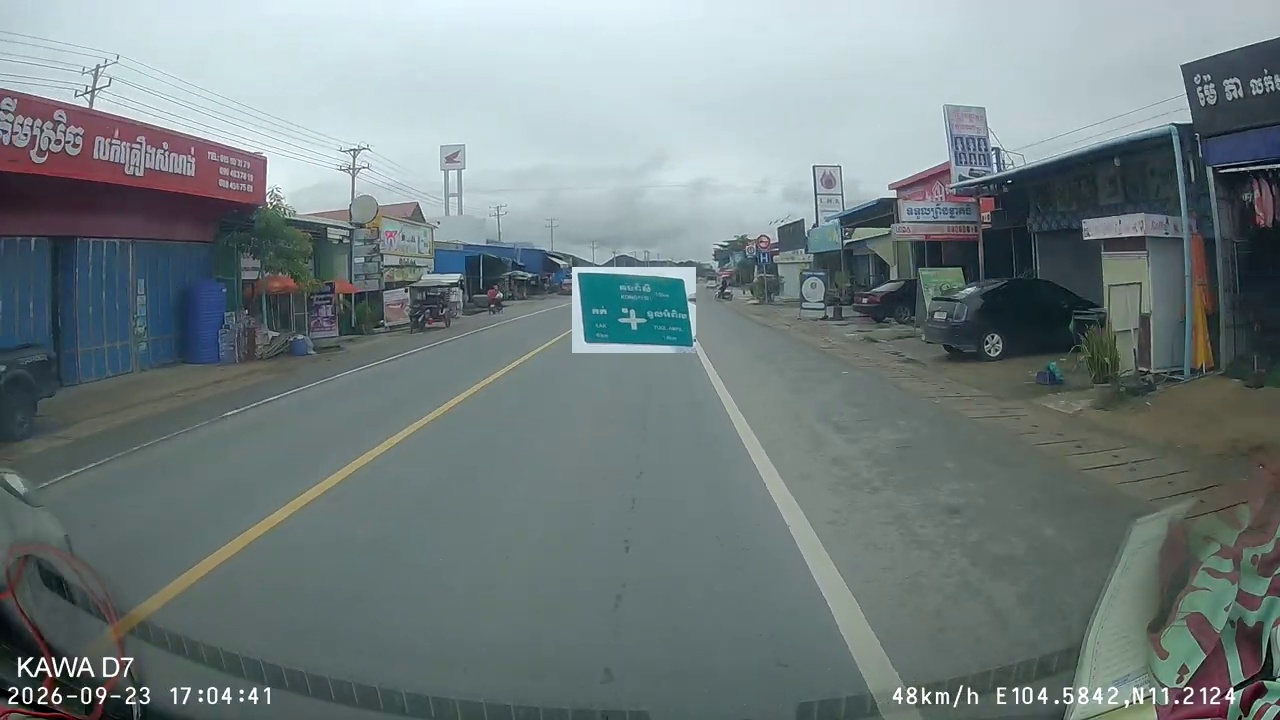direction_sign: (572, 267, 696, 353)
